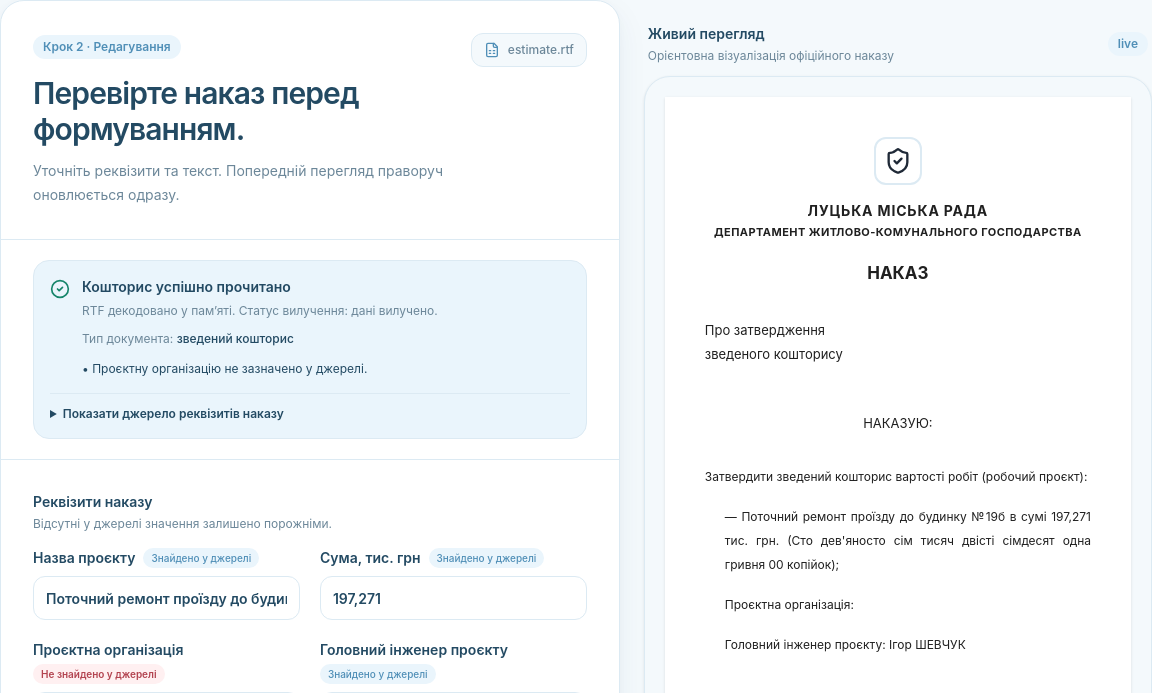
ReviewEditStep › prefills parsed values, shows warnings and evidence, and updates the live preview
Expected: the number of fields showing "Поточний ремонт проїзду до будинку №19б" is 1, left=33, top=576, right=300, bottom=620
Expected: the list item "• Проєктну організацію не зазначено у джерелі." is shown, left=82, top=361, right=367, bottom=376
In the field labelled "Сума, тис. грн Знайдено у джерелі": (453, 598) left=320, top=576, right=587, bottom=620, type "200"
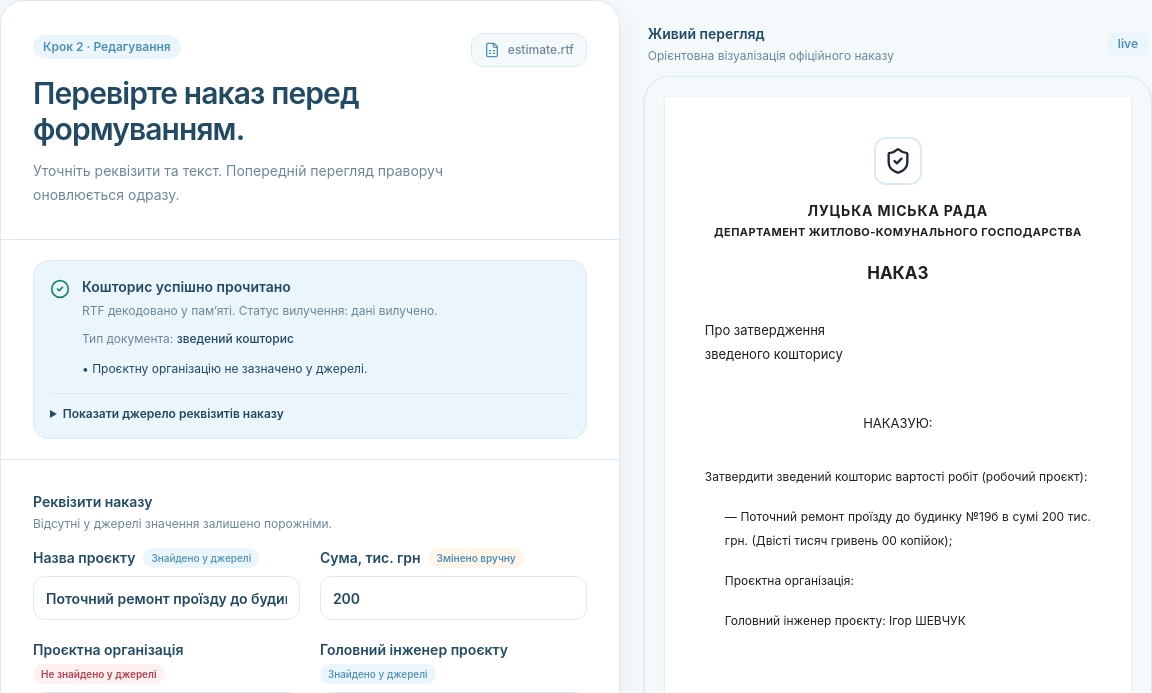
Expected: the text "200" is shown, left=725, top=509, right=1091, bottom=548
